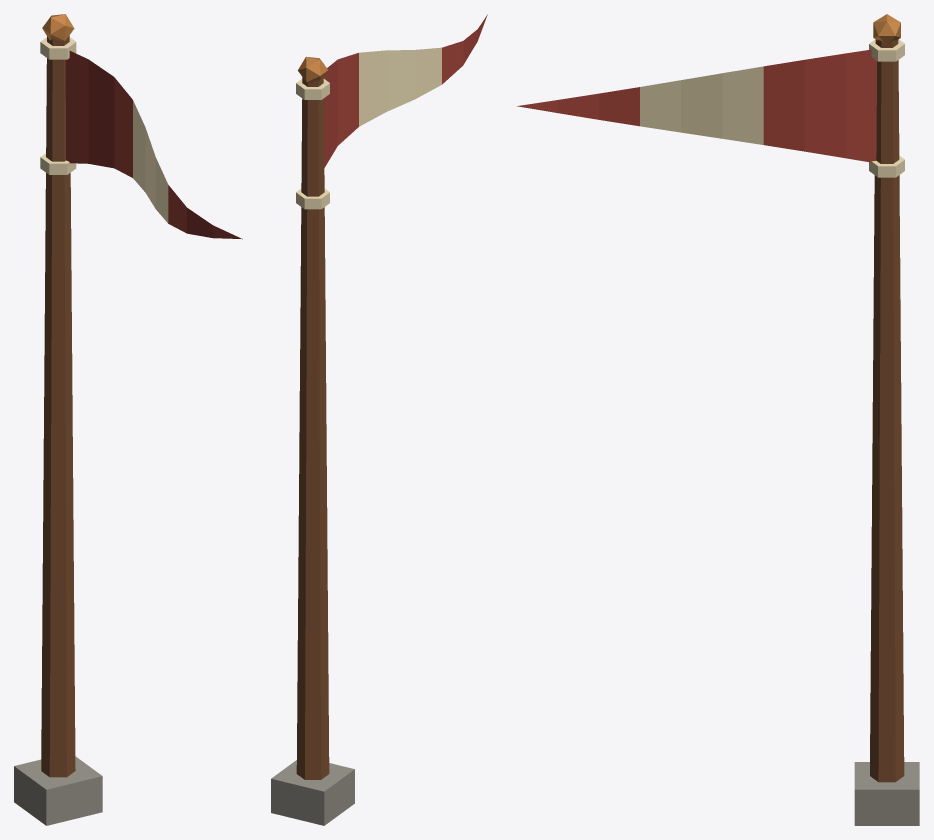
Rendered from wind-pennant.glb.
3 views of the same model, side by side, from view 1: azimuth 30°, elevation 25°; view 2: azimuth 150°, elevation 25°; view 3: azimuth 270°, elevation 25° (orthographic). The views are drawn at different scales.
Parts seen in each view (by area): view 1: wind-pennant, flag; view 2: wind-pennant, flag; view 3: wind-pennant, flag.
Part boxes in pixels (x1,y1,x2,y2): wind-pennant: (14,14,102,825); flag: (65,51,242,239); wind-pennant: (271,56,354,825); flag: (323,14,487,167); wind-pennant: (854,14,919,825); flag: (517,49,876,162).
Bounding box in the file's own units: 0.26 × 3.5 × 1.61.
